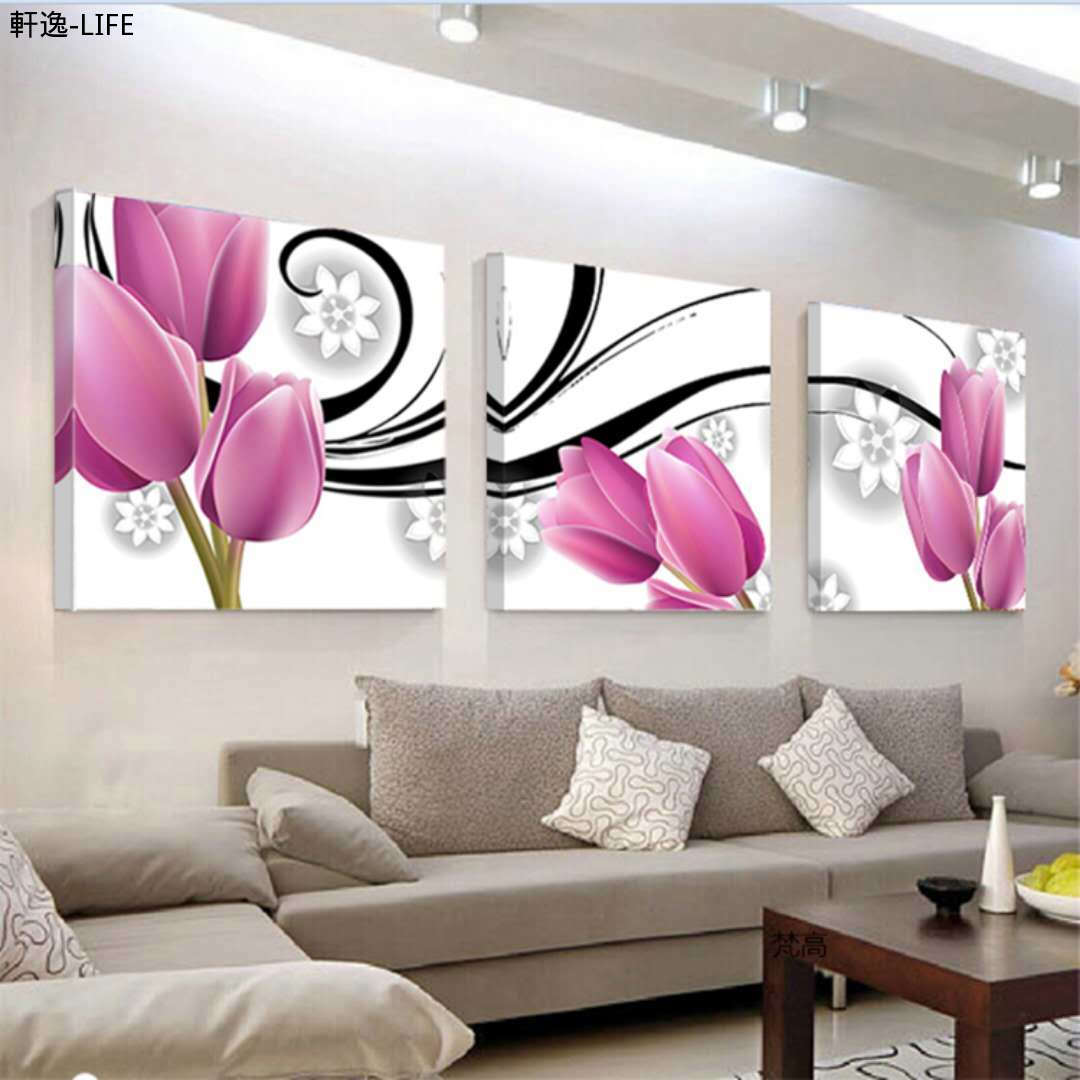bantal: (245, 765, 422, 883), (560, 713, 713, 848), (773, 689, 910, 831)
kursi: (1, 783, 403, 1080)
lukisan: (48, 186, 457, 621), (481, 246, 778, 626), (801, 294, 1036, 626)
meja: (754, 878, 1072, 1080)
sova: (179, 678, 1080, 970)
